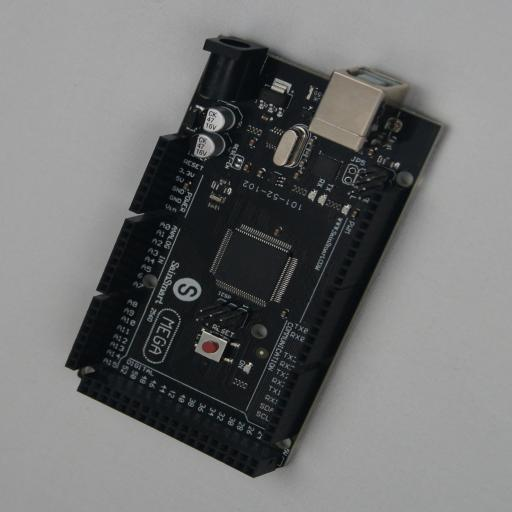ARMCORTEXM7: (65, 34, 444, 478)
